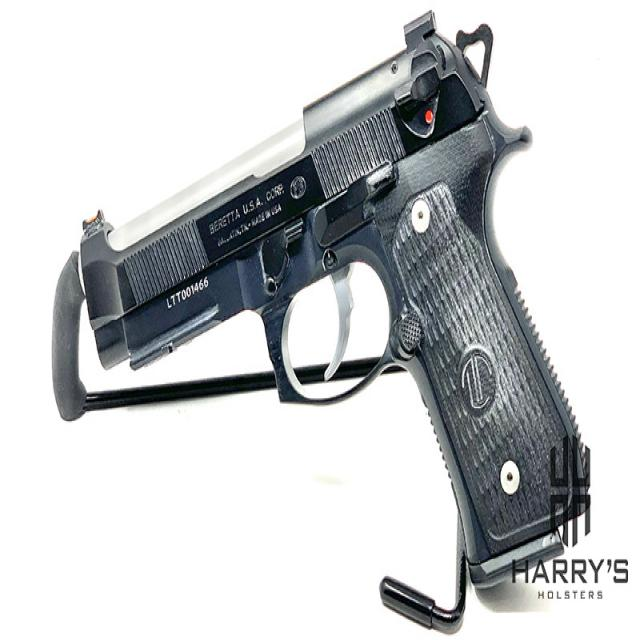Gun: (54, 7, 609, 577)
